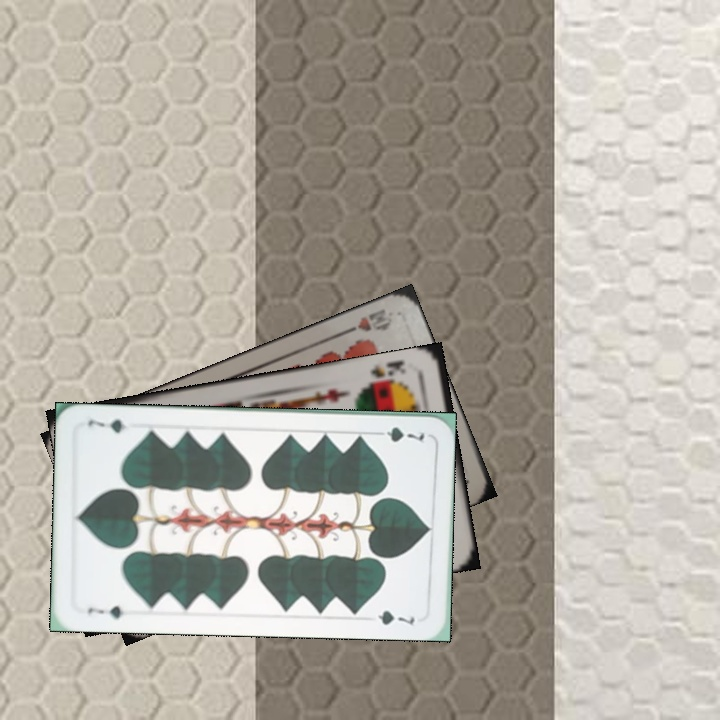G7: (370, 422, 427, 444), (83, 602, 126, 621)
H10: (339, 304, 396, 338)
SK: (367, 356, 409, 380)
